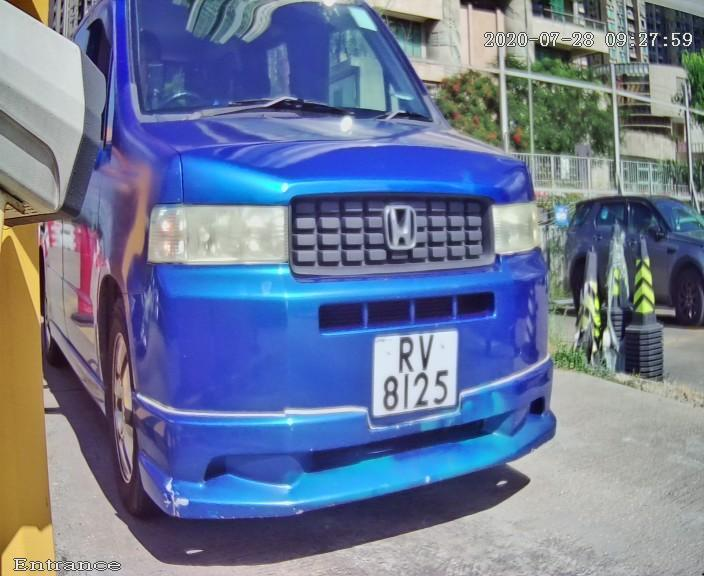privatecar: (10, 8, 645, 556)
